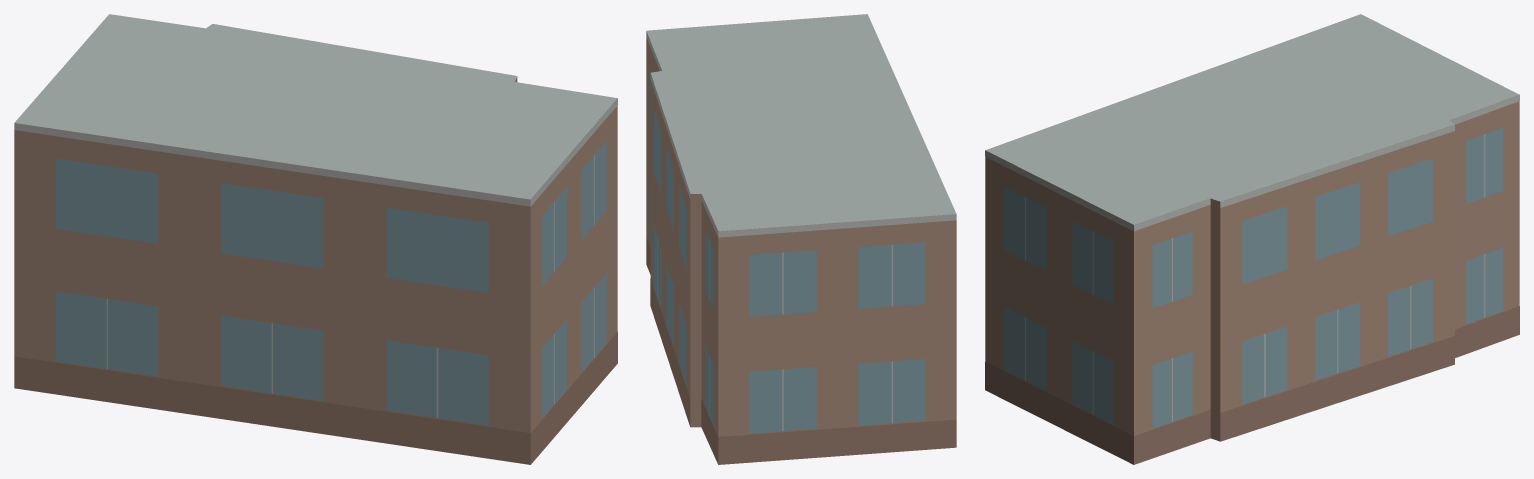
The model's file is survey-upis-33036751.glb.
3 views of the same model, side by side, from view 1: azimuth 30°, elevation 25°; view 2: azimuth 150°, elevation 25°; view 3: azimuth 270°, elevation 25° (orthographic). The views are drawn at different scales.
Visible parts, largest first — view 1: survey-upis-33036751.tmp; view 2: survey-upis-33036751.tmp; view 3: survey-upis-33036751.tmp.
Part boxes in pixels (x1,y1,x2,y2): survey-upis-33036751.tmp: [14, 14, 617, 464]; survey-upis-33036751.tmp: [646, 14, 956, 464]; survey-upis-33036751.tmp: [985, 14, 1519, 464].
Bounding box in the file's own units: 17.26 × 9.15 × 18.48.
